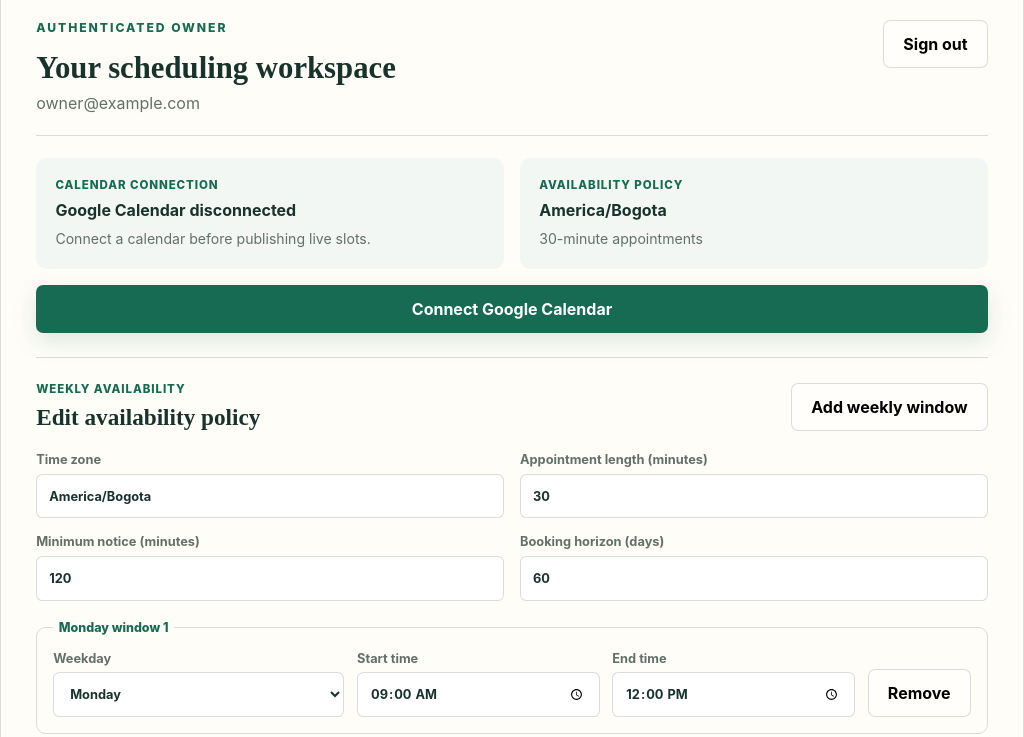
OwnerWorkspace management › replaces scalar settings while preserving canonical weekly windows
Replace the text in the field labelled "Time zone" with "America/New_York" at (270, 496), box [36,474,504,518]
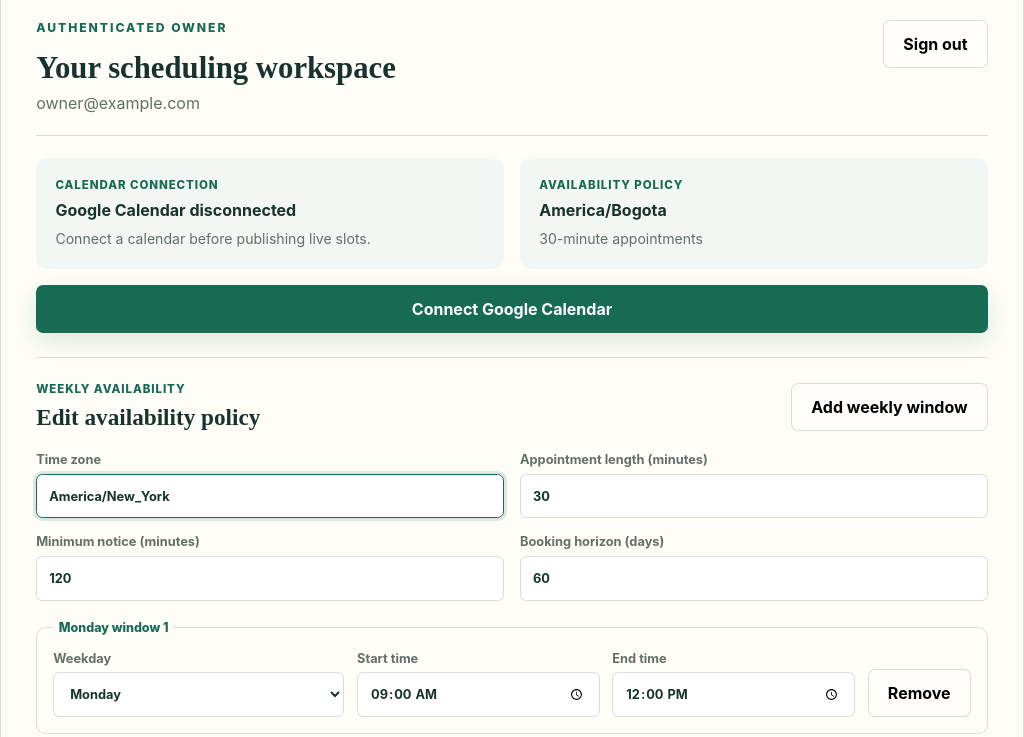
Replace the text in the number field labelled "Appointment length (minutes)" with "45" at (754, 496), box [520,474,988,518]
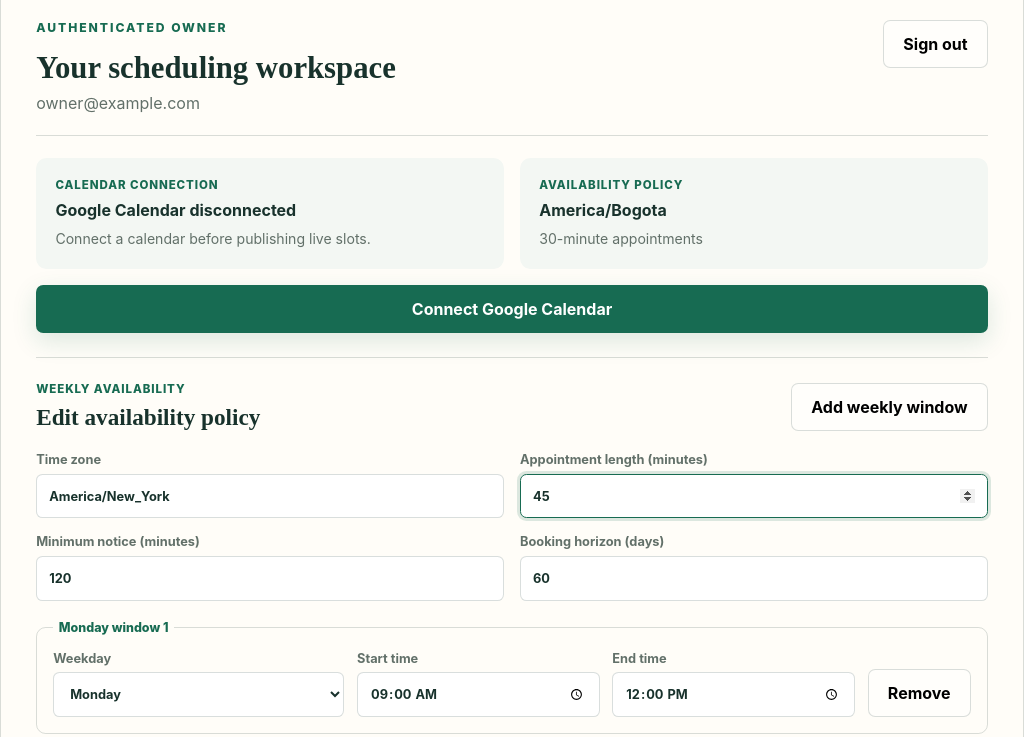
Replace the text in the number field labelled "Minimum notice (minutes)" with "180" at (270, 578), box [36,556,504,601]
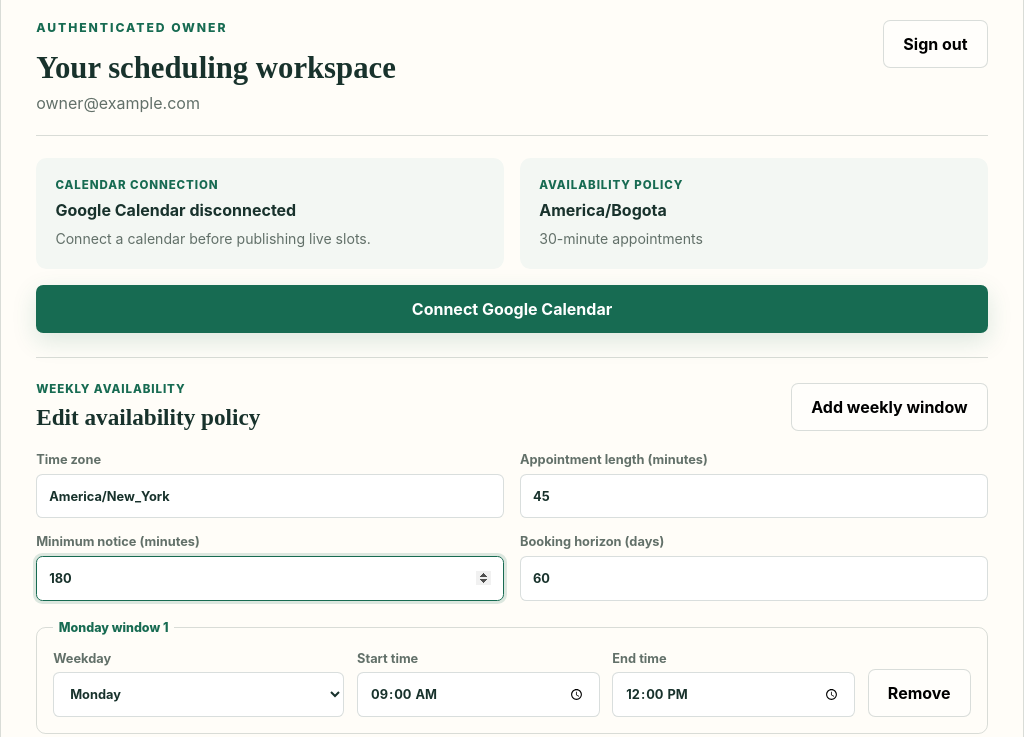
Replace the text in the number field labelled "Booking horizon (days)" with "90" at (754, 578), box [520,556,988,601]
(page scrolled)
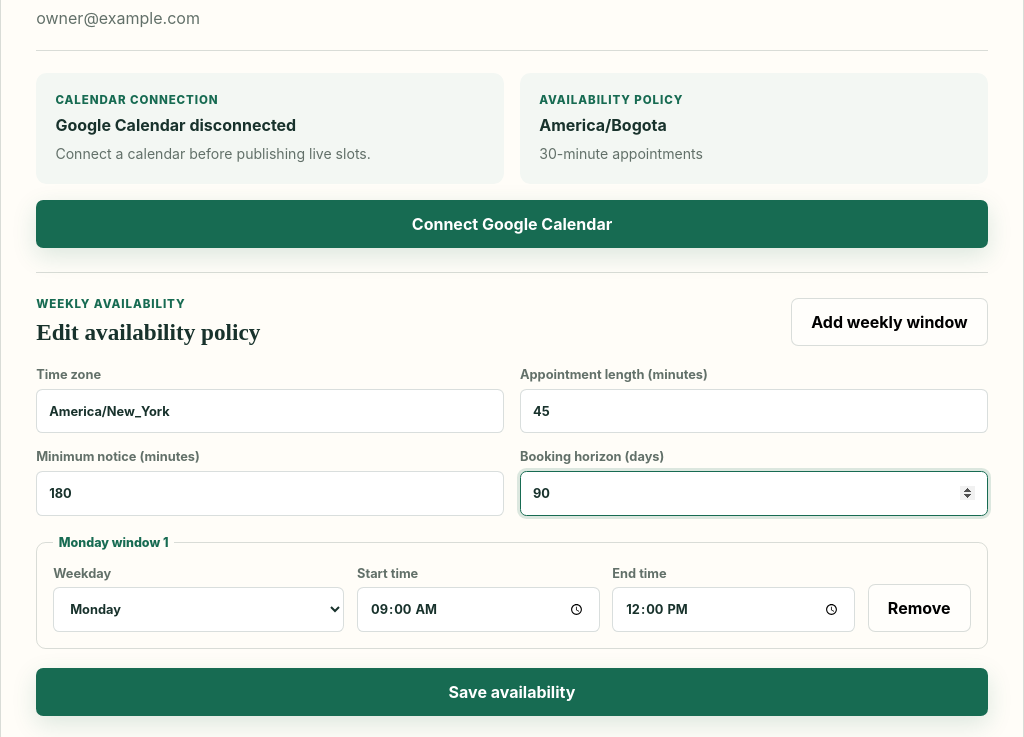
Click the button "Save availability".
click(512, 692)  # box [36,668,988,716]
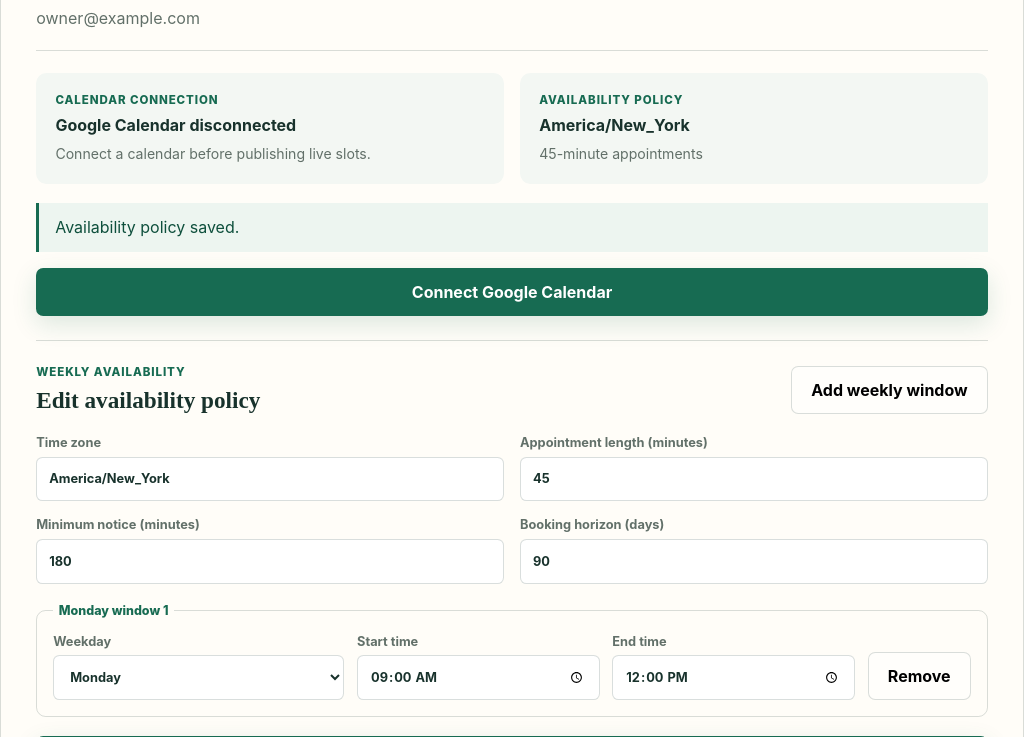
Check: the message reads "Availability policy saved.", box [55,217,239,237]
